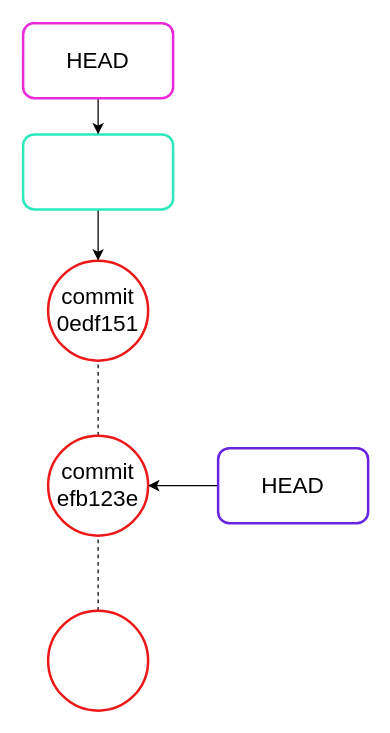
Some shapes in this 390 by 733 pixel diagram are drawn without their labels. Each missing label, with the centre of its shape:
Branch: the point at 97,171
commit 8f3ac4a: the point at 97,660
